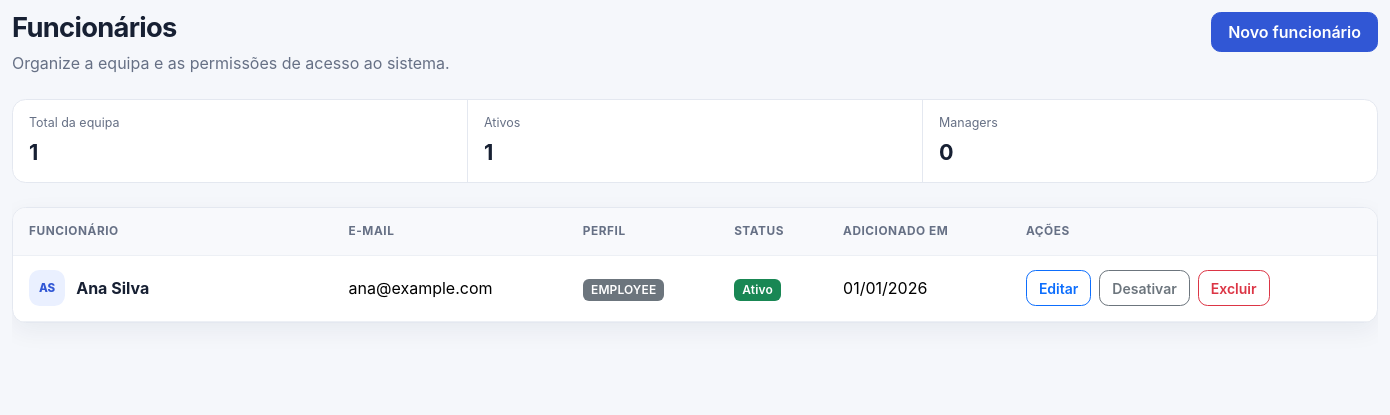
Test: EmployeesPage › deactivates an employee
This screenshot has width=1390, height=415.
Expected: the table is shown, [13,208,1377,322]
Click the button "Desativar".
click(1145, 288)  # box [1099,270,1190,306]
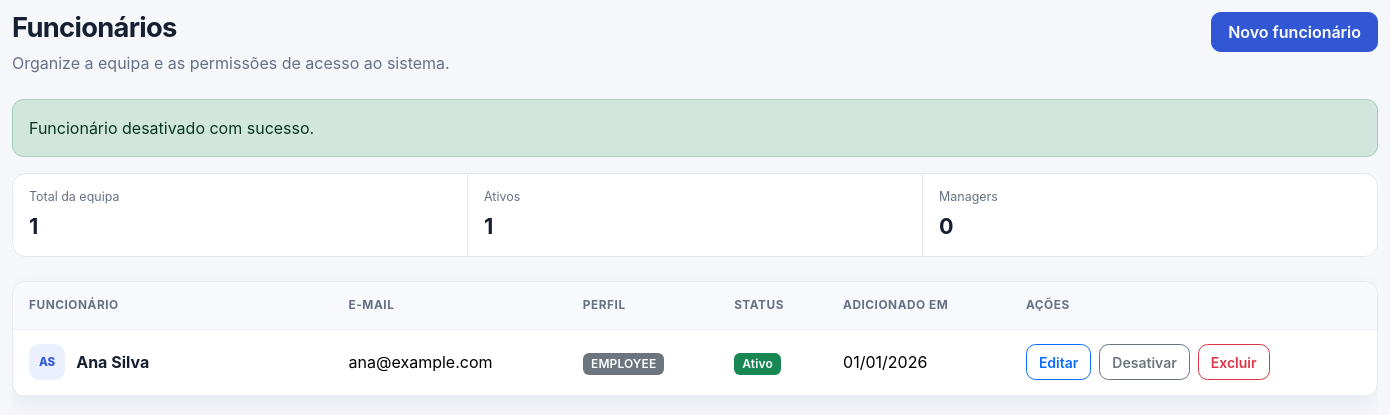
Result: the text "Funcionário desativado com sucesso." is shown at [12,99,1378,157]
